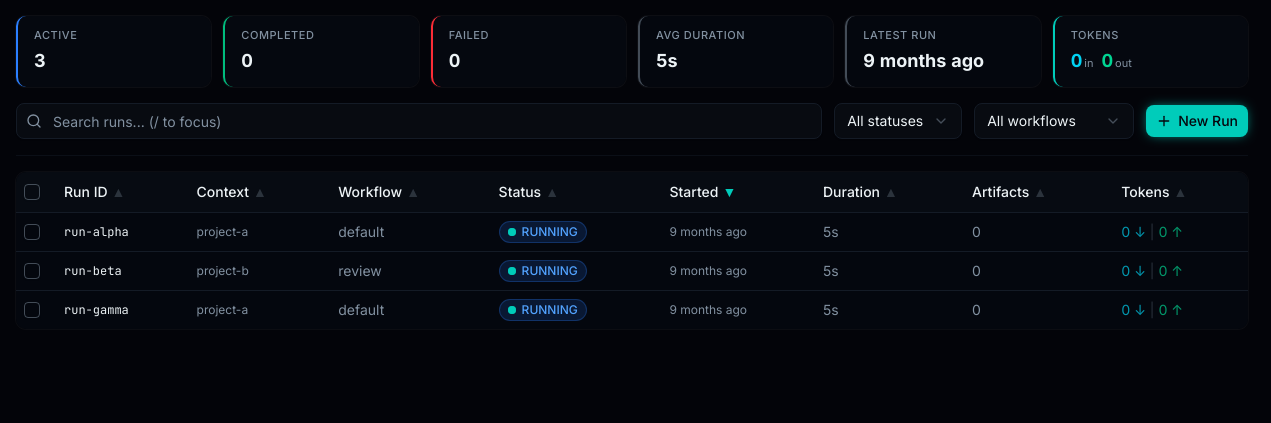
Test case: RunListPage - search filter › shows "No runs match your filters" when search matches nothing
Check: the text "run-alpha" is shown, box [56,212,188,251]
Type "nonexistent" into the field with placeholder "Search runs... (/ to focus)" at (419, 121), box [16,103,822,139]
Wait 350 ms
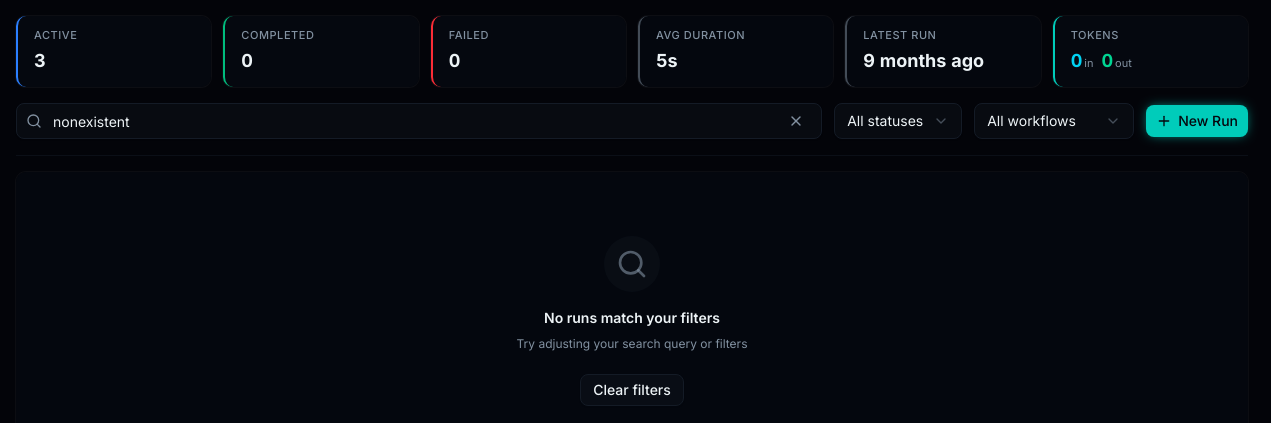
Check: the heading "No runs match your filters" is shown, box [544,308,720,328]
